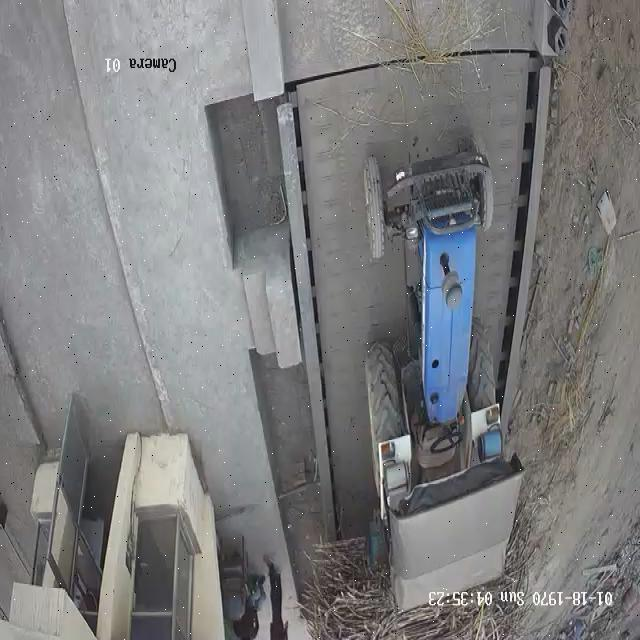Tratores - v5 YOLO V8L 2024-11-13: (358, 143, 506, 454)
